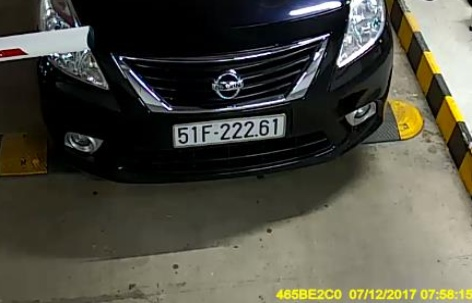plate: (162, 106, 293, 148)
